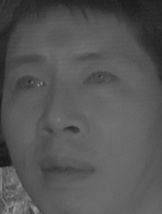eye: (82, 68, 121, 91), (9, 72, 47, 94)
mouth: (36, 151, 96, 191)
